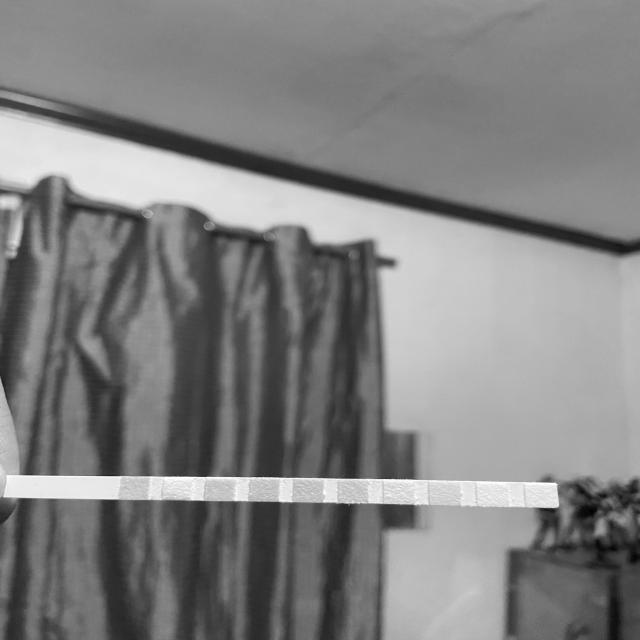Bilirubin: (166, 478, 191, 498)
Blood: (295, 480, 322, 501)
Glucose: (123, 478, 147, 499)
Ketone: (208, 478, 234, 499)
Leukocytes: (527, 486, 556, 506)
Nitrite: (478, 483, 507, 505)
Protein: (385, 482, 413, 502)
SpGravity: (251, 478, 278, 501)
Urobilinogen: (432, 483, 458, 504)
background: (0, 0, 640, 640)
pH: (341, 480, 366, 502)
strip: (9, 475, 558, 508)
